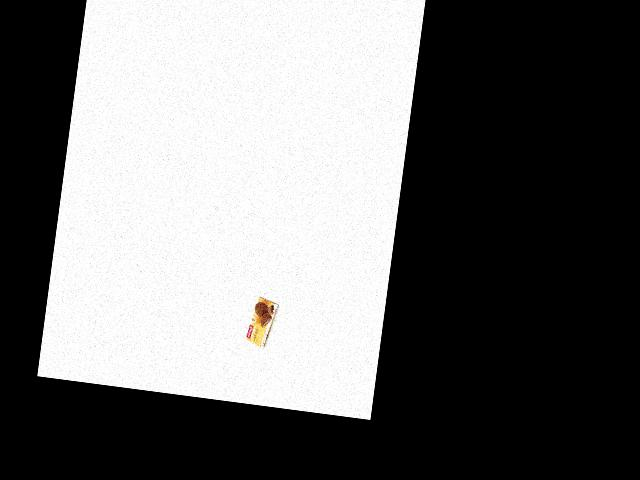chocolate: (243, 292, 275, 356)
